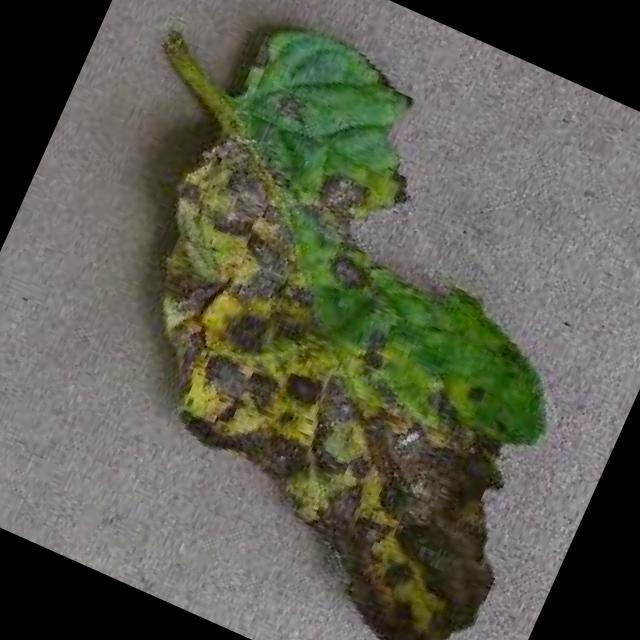Tomato Early blight leaf: (30, 4, 640, 640)
